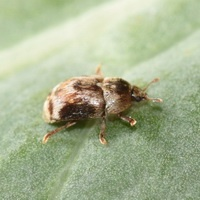insect: (43, 65, 161, 144)
